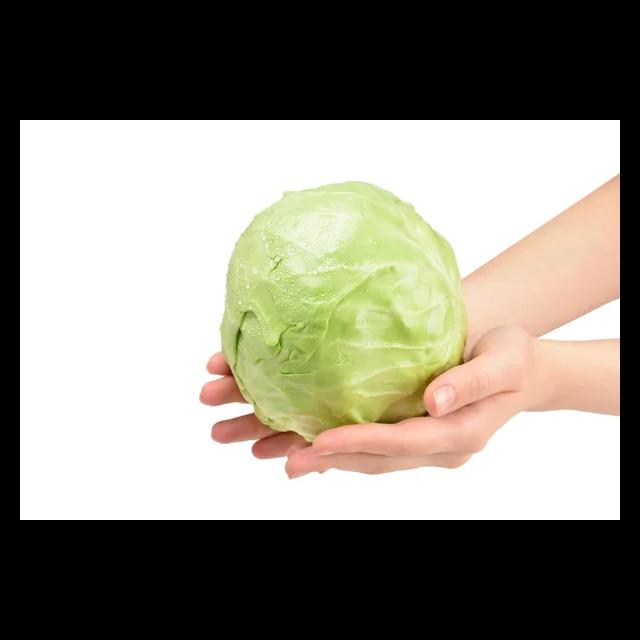cabbage: (219, 178, 470, 448)
